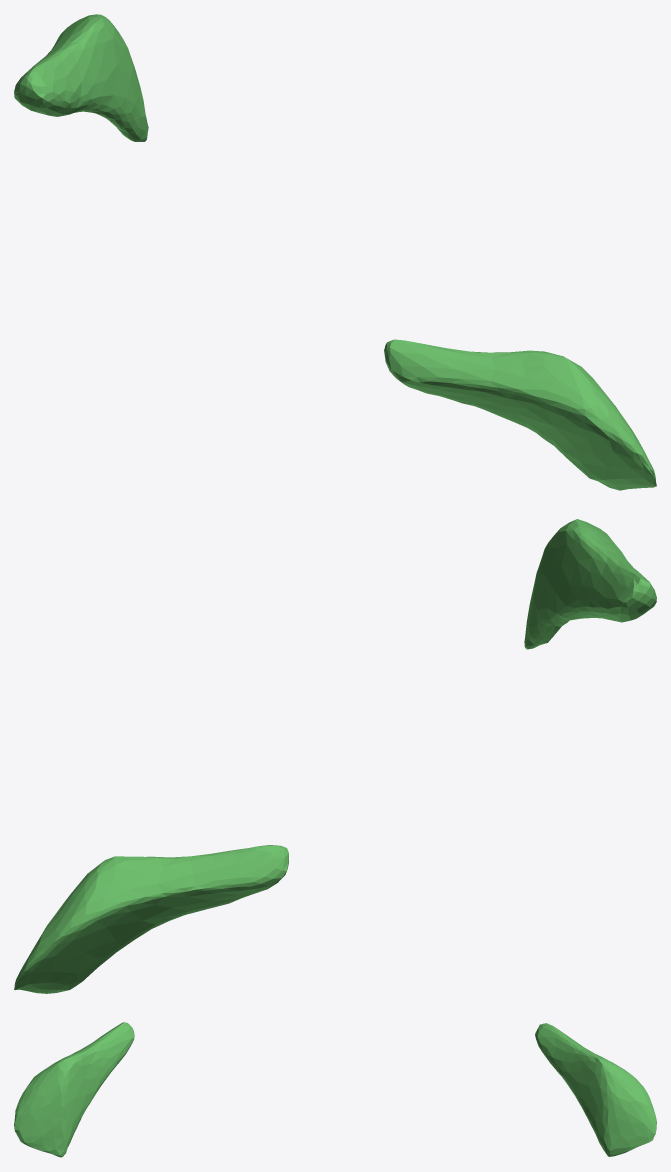
3 renders of one model, top to bottom at view 1: azimuth 30°, elevation 25°; view 2: azimuth 150°, elevation 25°; view 3: azimuth 270°, elevation 25°, orthographic. The views are drawn at different scales.
Visible parts, largest first — view 1: 589508447.obj; view 2: 589508447.obj; view 3: 589508447.obj.
Boxes of the visible parts, bbox=[...] form: 589508447.obj: bbox=[14, 14, 656, 490]; 589508447.obj: bbox=[14, 519, 656, 993]; 589508447.obj: bbox=[14, 1022, 656, 1157].
Bounding box in the file's own units: 1256 × 970 × 6459.
